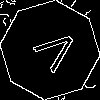V: (25, 25, 82, 80)
